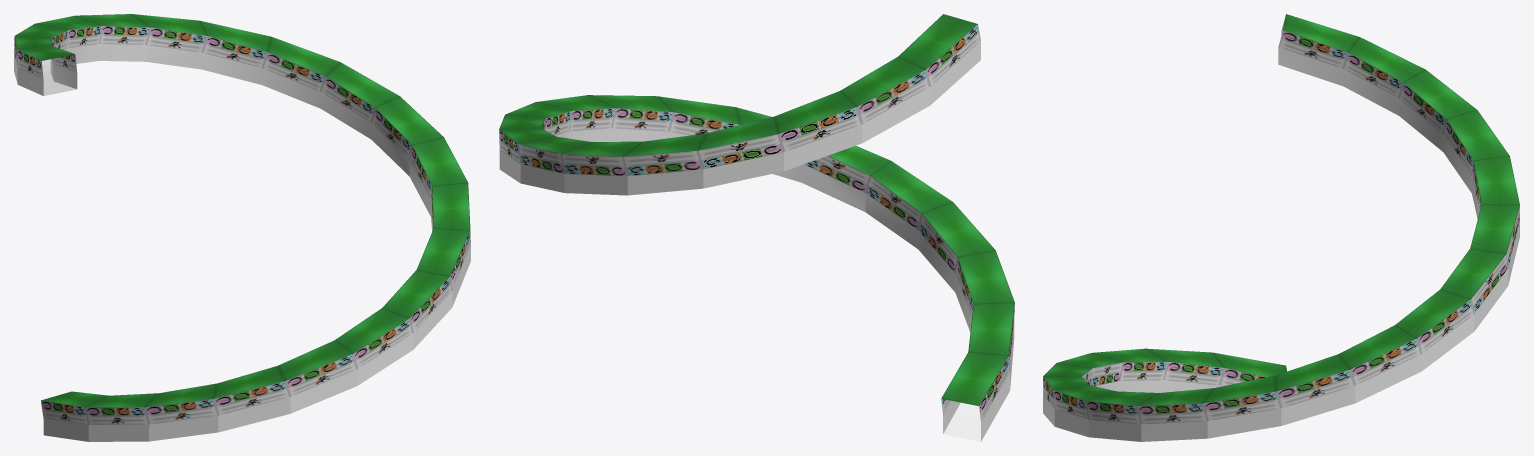
File: CourseWinter_Wall_R_13.fbx
3 views of the same model, side by side, from view 1: azimuth 30°, elevation 25°; view 2: azimuth 150°, elevation 25°; view 3: azimuth 270°, elevation 25° (orthographic). The views are drawn at different scales.
Visible parts, largest first — view 1: polySurface443; view 2: polySurface443; view 3: polySurface443.
Boxes of the visible parts, box(x1,y1,x2,y2) form: polySurface443: box(14, 14, 470, 441); polySurface443: box(499, 14, 1014, 441); polySurface443: box(1043, 14, 1519, 441).
Size of the model in its own units: 24.59 by 21.97 by 24.56.
Materials: 1 (1 with a texture image).
